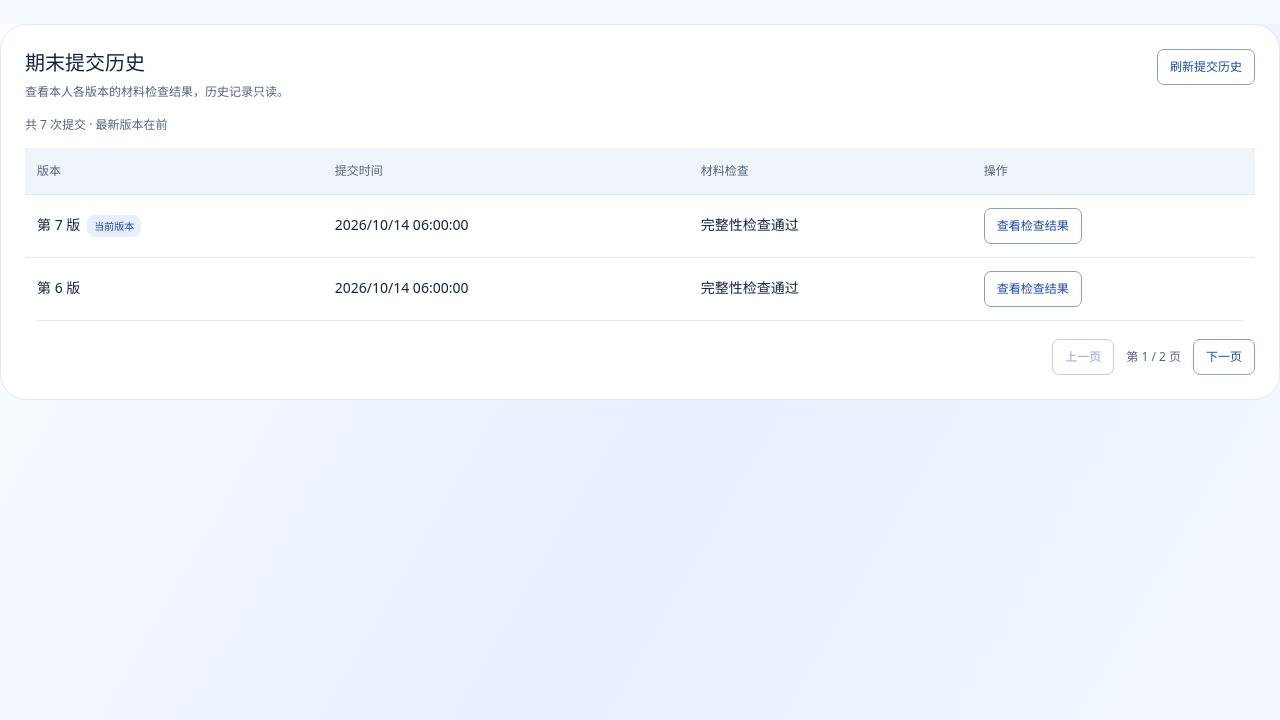
Test: 旧版 PENDING 不自动轮询，手动刷新后读取最终结果
Click the button with aria-label "查看第 6 版材料检查". click: (1033,289)
box: [984,271,1082,307]
Wait 10000 ms
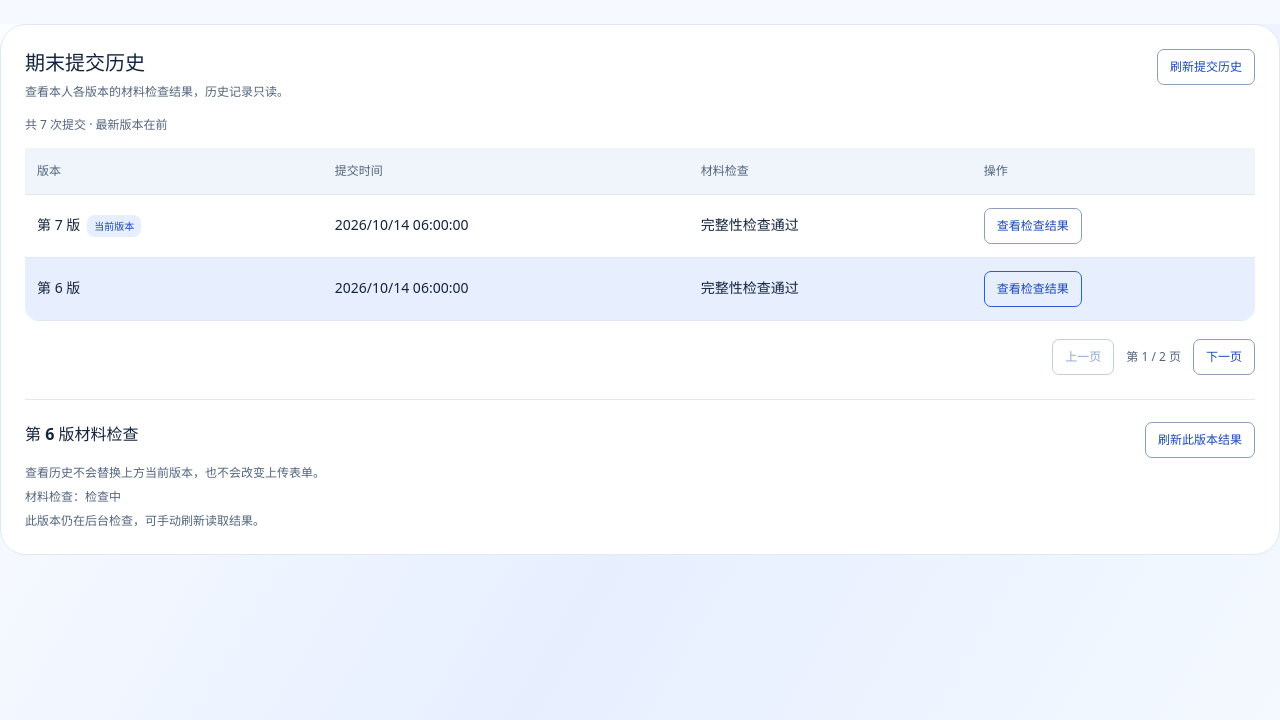
Check: the element with class "history-detail" shows "手动刷新读取结果", box [25,512,265,529]
Click the button "刷新此版本结果". click: (1200,440)
box: [1145,422,1255,458]
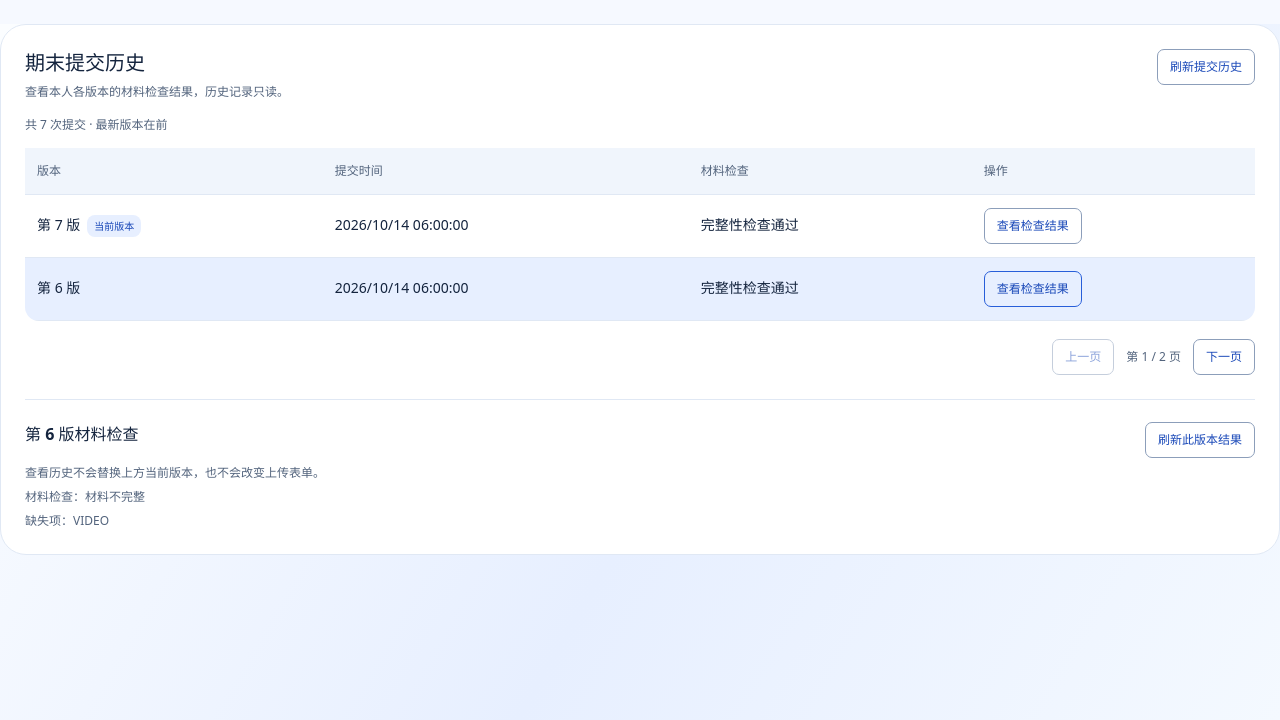
Check: the element with class "history-detail" shows "缺失项：VIDEO", box [25,512,109,529]
